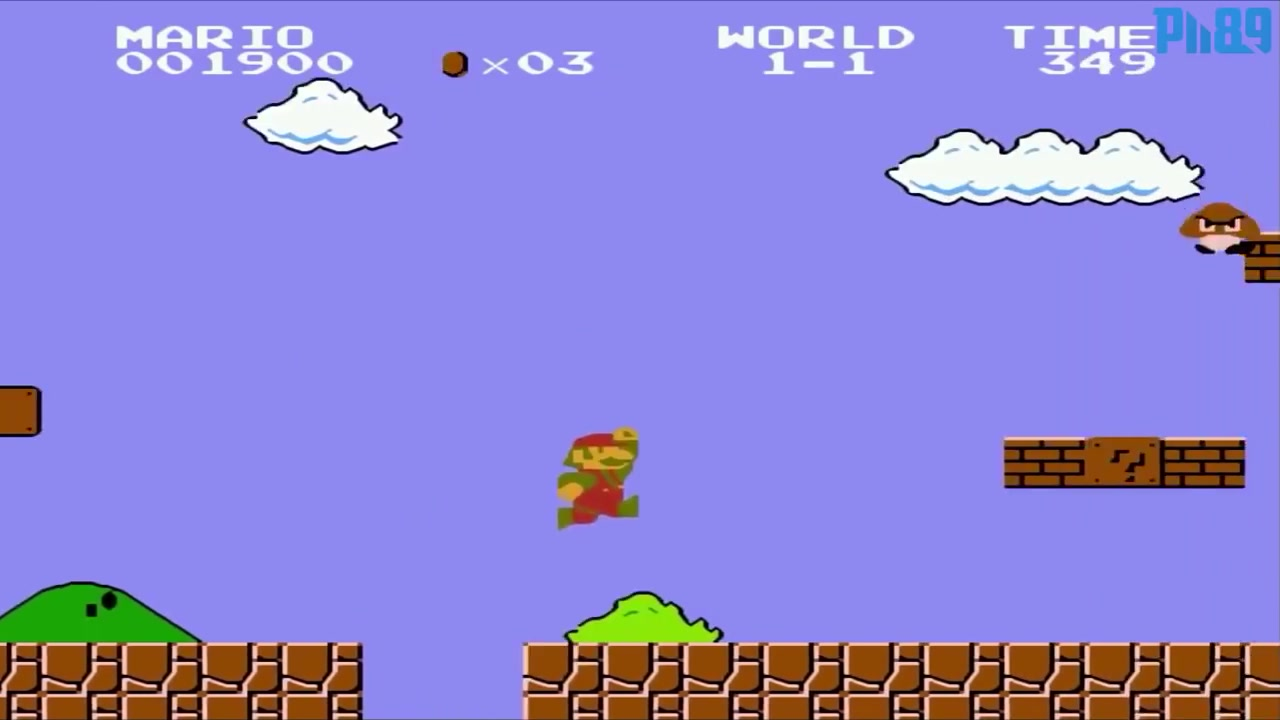mario: (556, 418, 641, 526)
